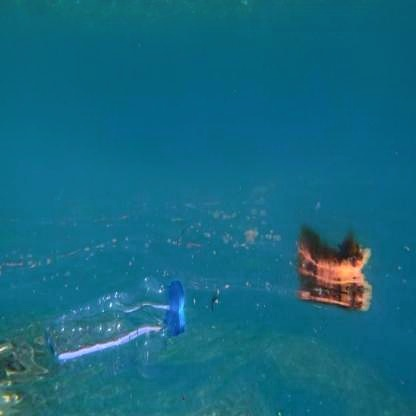misc: (292, 226, 378, 278)
pbottle: (31, 280, 194, 372)
